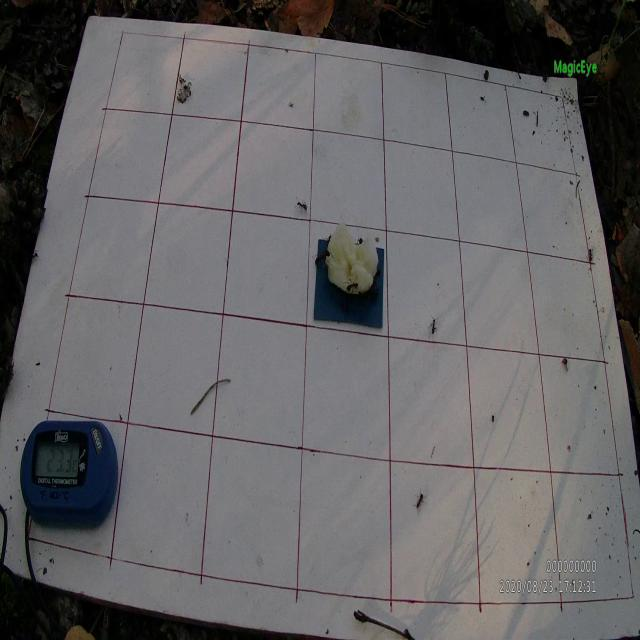Ant: (412, 488, 427, 515), (342, 275, 359, 294), (294, 196, 307, 216), (429, 314, 439, 337), (586, 245, 594, 264)
